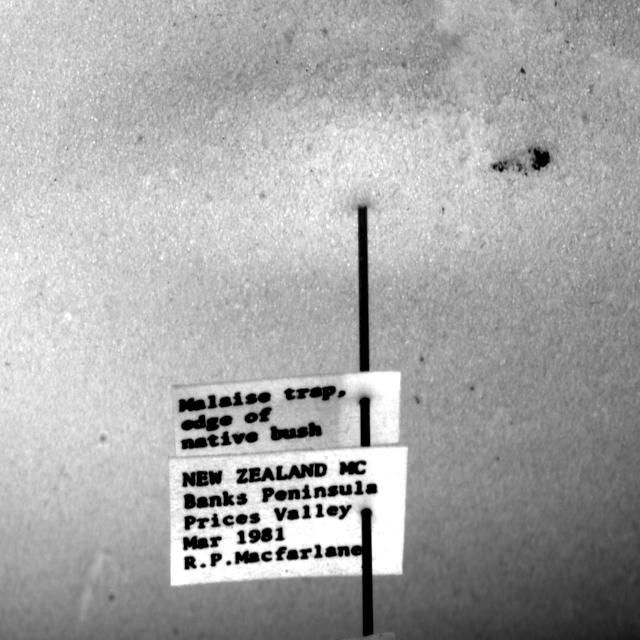typed_label: (169, 446, 408, 585), (172, 371, 401, 456)
